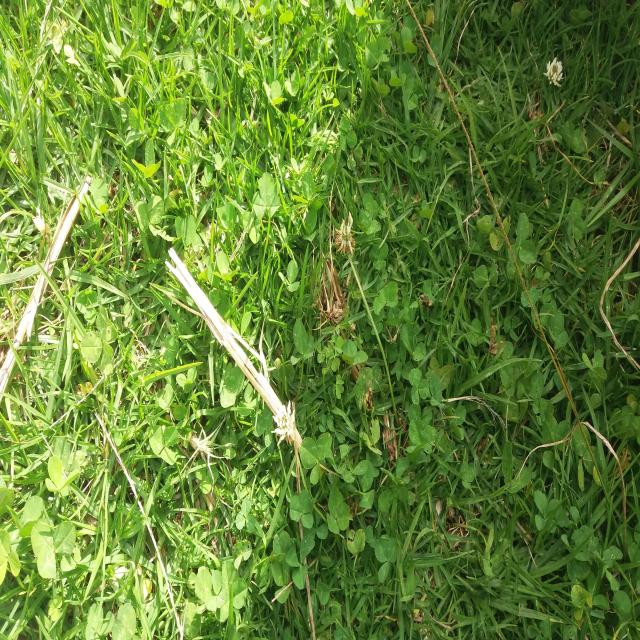Four Leaf Clover: (373, 281, 398, 315), (265, 376, 288, 404)
